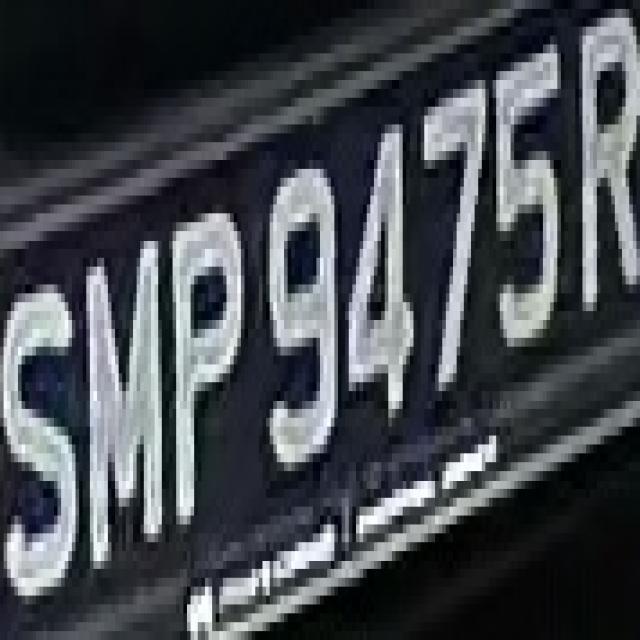4: (341, 89, 428, 444)
5: (485, 63, 561, 364)
7: (410, 53, 496, 409)
9: (255, 151, 356, 489)
M: (76, 213, 172, 560)
P: (154, 178, 259, 533)
R: (564, 35, 640, 329)
S: (0, 257, 86, 631)
